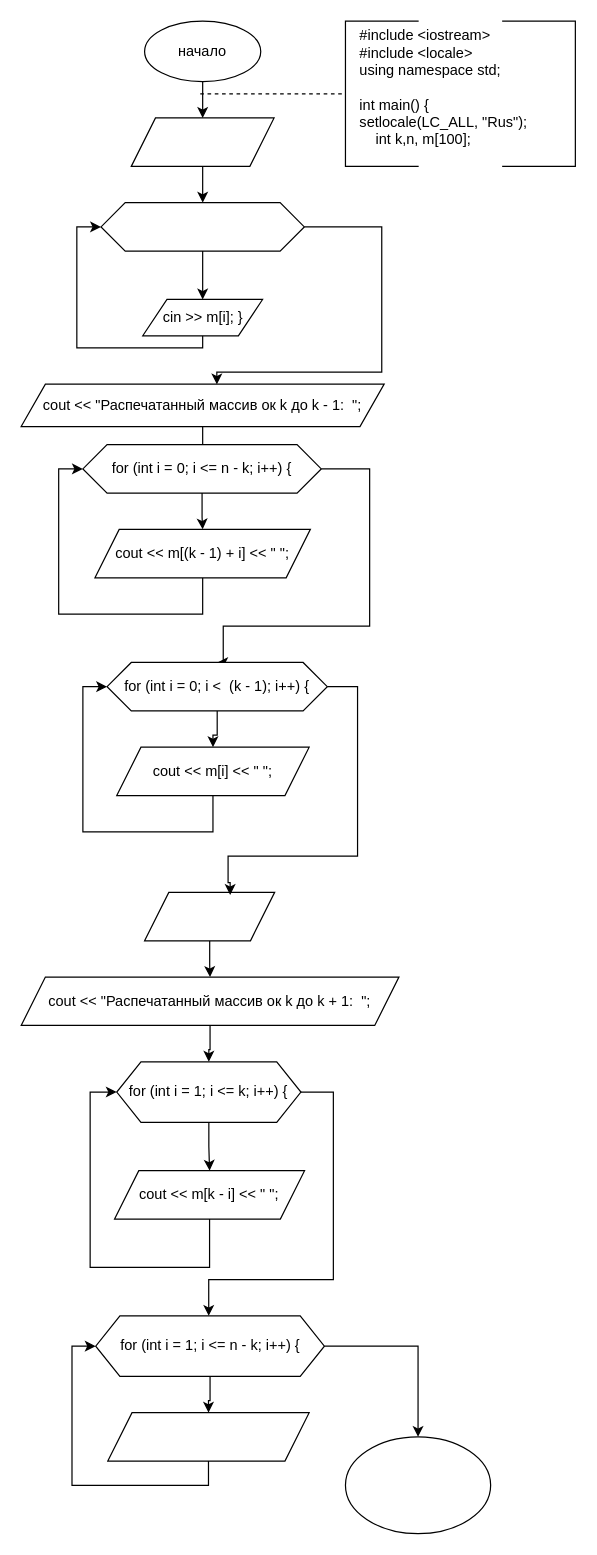
This 597x1555 diagram has some shape labels left out. Each missing label, with the centre of its shape:
cin >> n >> k;: point (202, 141)
cout << endl;: point (209, 916)
cout << m[n - i] << " ";: point (208, 1436)
for (int i = 0; i < n; i++) {: point (202, 226)
return 0;: point (417, 1485)
